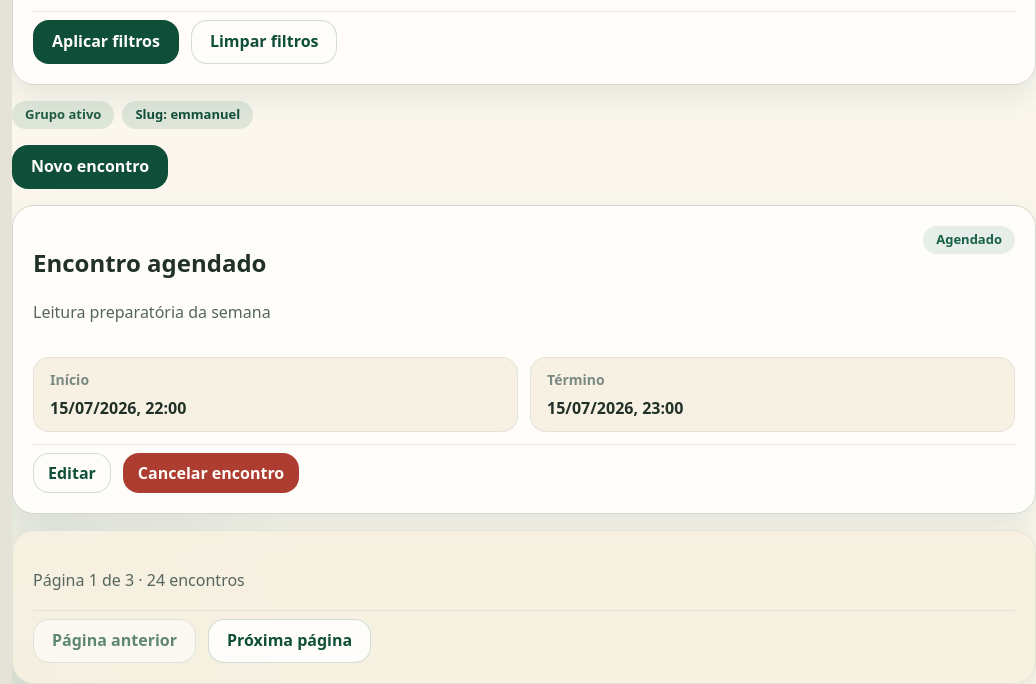
Test case: AdminGroupsPage concurrency › mudança de página mantém grupo e filtros da solicitação atual
(page scrolled)
expect the heading "Encontro agendado" is shown: met, box x1=33 y1=246 x2=271 y2=279
Click the button "Próxima página": (290, 641) x1=208 y1=619 x2=371 y2=663
(page scrolled)
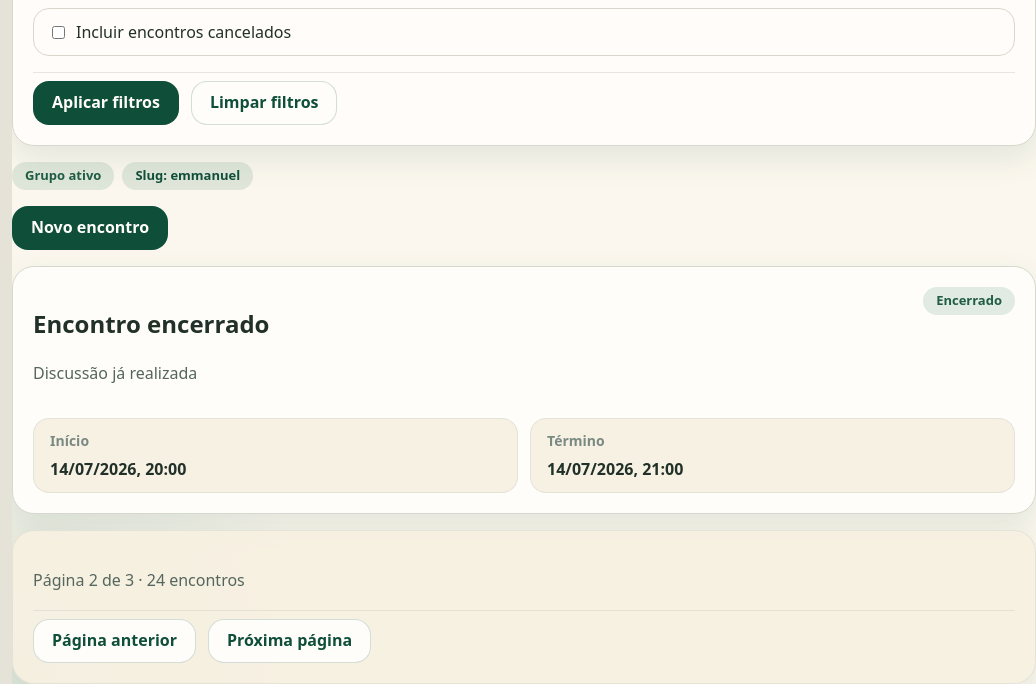
expect the heading "Encontro encerrado" is shown: met, box x1=33 y1=307 x2=269 y2=340
